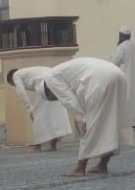ruku: (44, 55, 131, 183), (6, 60, 73, 159)
